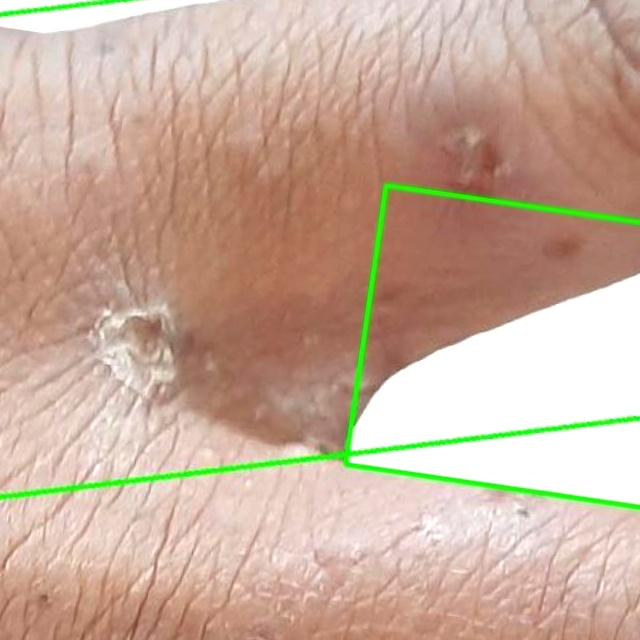Scabies: (0, 0, 639, 496), (345, 185, 639, 507)
